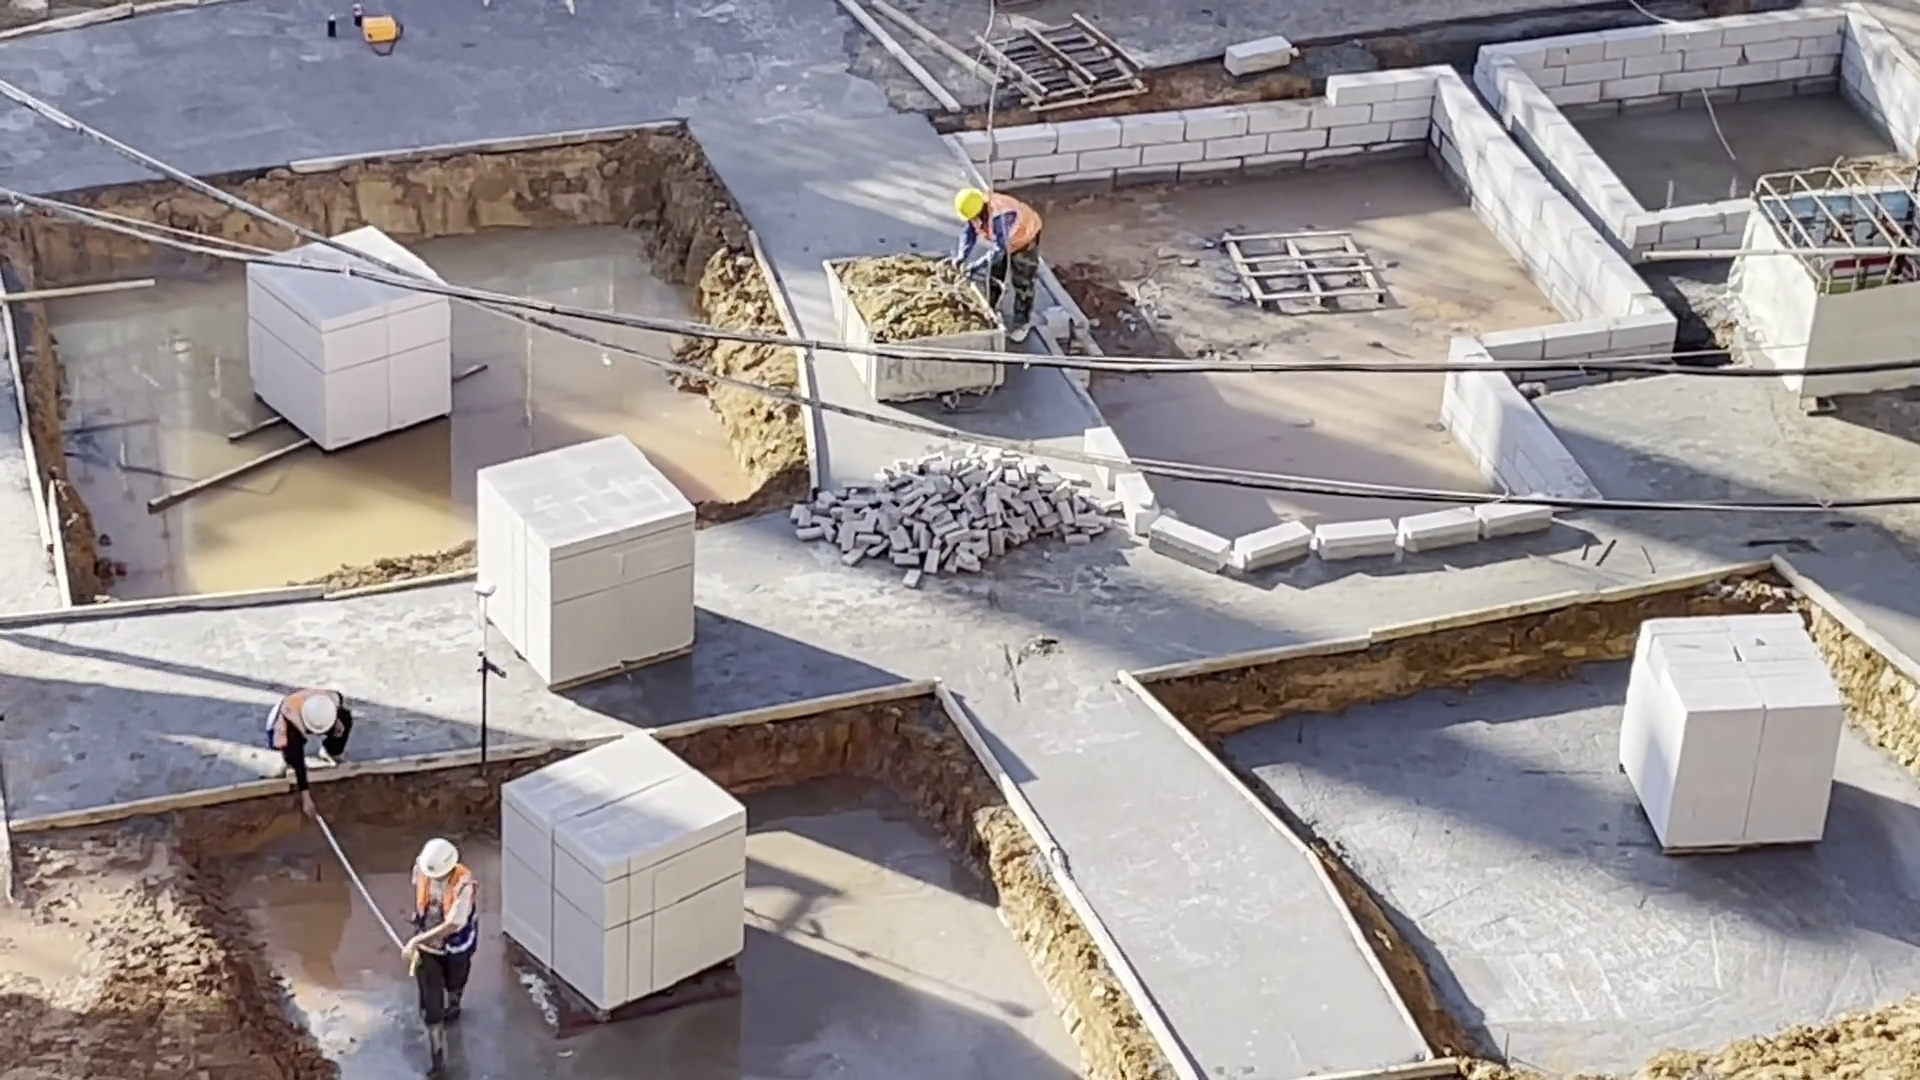brick: (495, 734, 757, 1016), (471, 419, 701, 700), (1612, 608, 1846, 858), (236, 297, 458, 446)
helmet: (411, 838, 464, 882), (300, 687, 338, 735), (951, 183, 986, 217)
hopper: (821, 248, 955, 343)
person: (388, 837, 484, 1071), (949, 178, 1043, 350), (260, 680, 354, 819)
vest: (410, 868, 478, 957), (972, 193, 1044, 251)
